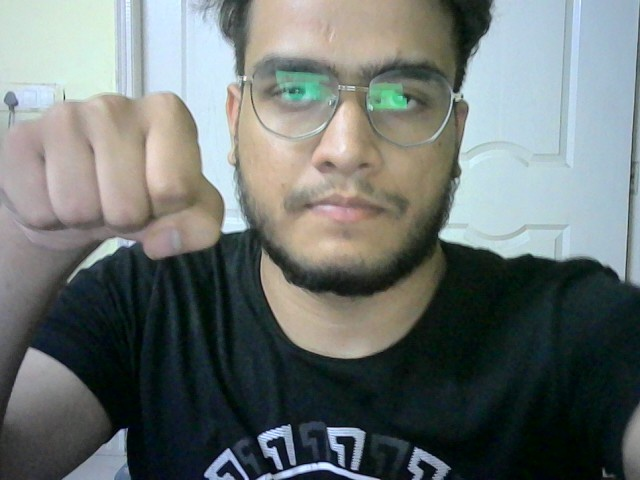Yes: (3, 95, 231, 273)
